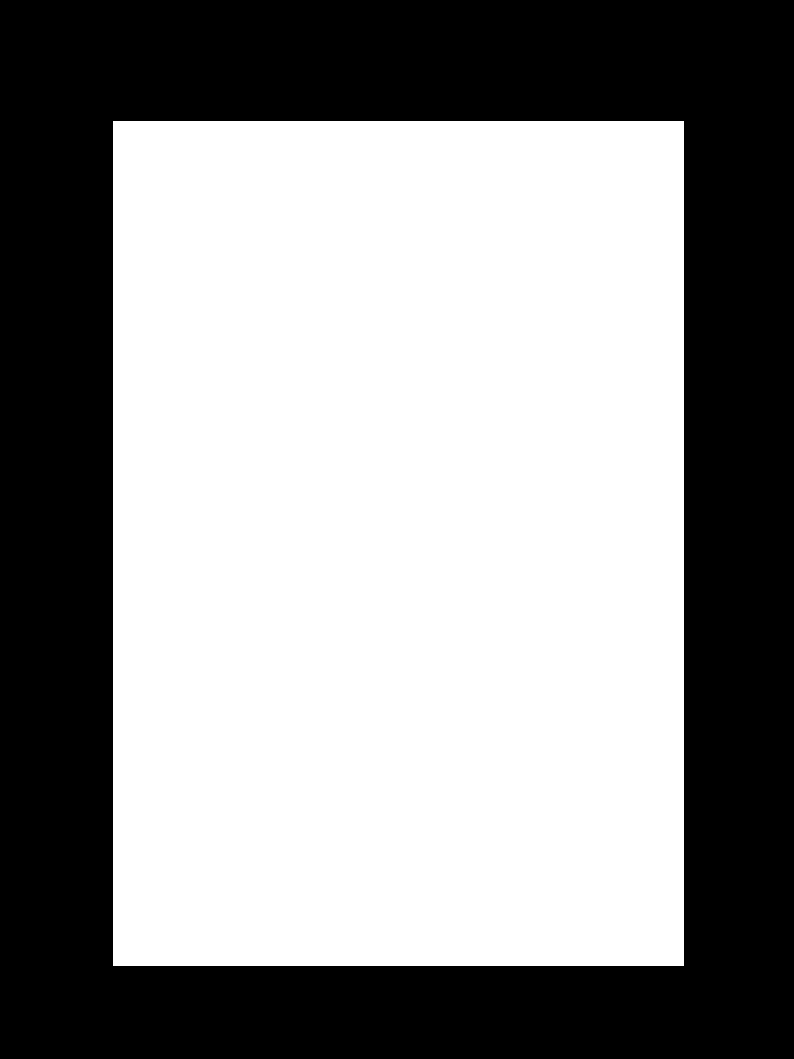table: (113, 121, 683, 965)
